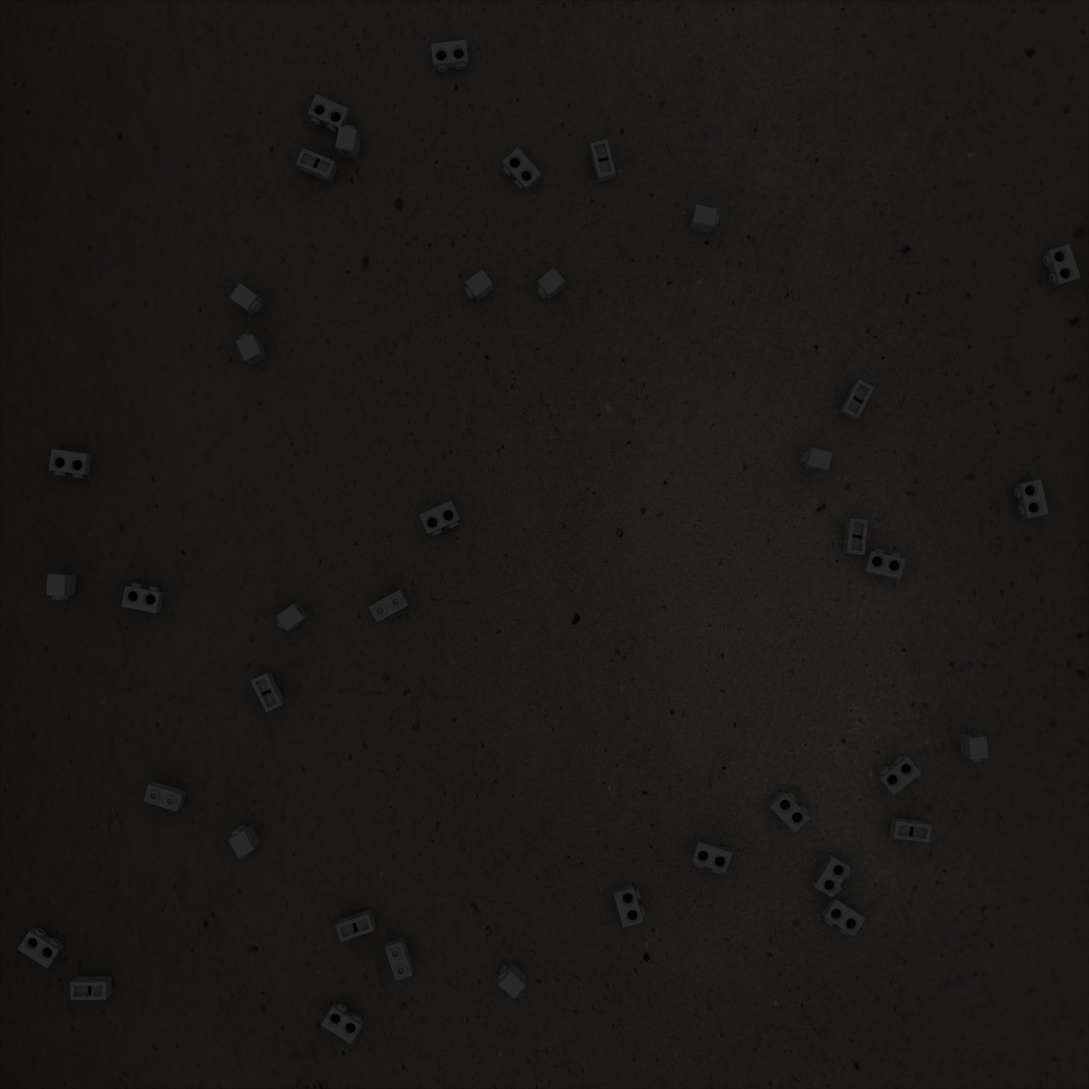lego: (17, 927, 64, 969), (821, 896, 866, 937), (321, 1002, 364, 1044), (768, 790, 810, 833), (877, 755, 921, 795), (812, 853, 851, 898), (502, 147, 541, 192), (307, 94, 351, 133), (1043, 244, 1081, 287), (838, 379, 875, 421), (419, 500, 461, 536), (250, 671, 286, 713), (296, 148, 338, 183), (613, 884, 646, 928), (691, 839, 732, 874), (863, 548, 906, 580), (1014, 479, 1049, 518), (143, 781, 187, 812), (335, 909, 376, 942), (369, 589, 410, 622), (384, 937, 414, 981), (121, 583, 164, 613), (49, 449, 92, 478), (431, 40, 469, 72), (589, 139, 616, 183), (228, 824, 261, 858), (889, 817, 932, 843), (229, 283, 263, 315), (498, 962, 527, 999), (70, 976, 112, 1000), (236, 333, 267, 365), (464, 269, 494, 302), (843, 518, 868, 555), (276, 603, 309, 631), (537, 267, 565, 300), (959, 732, 989, 762), (335, 125, 361, 159), (690, 204, 719, 233), (800, 447, 833, 472), (46, 573, 76, 600)
